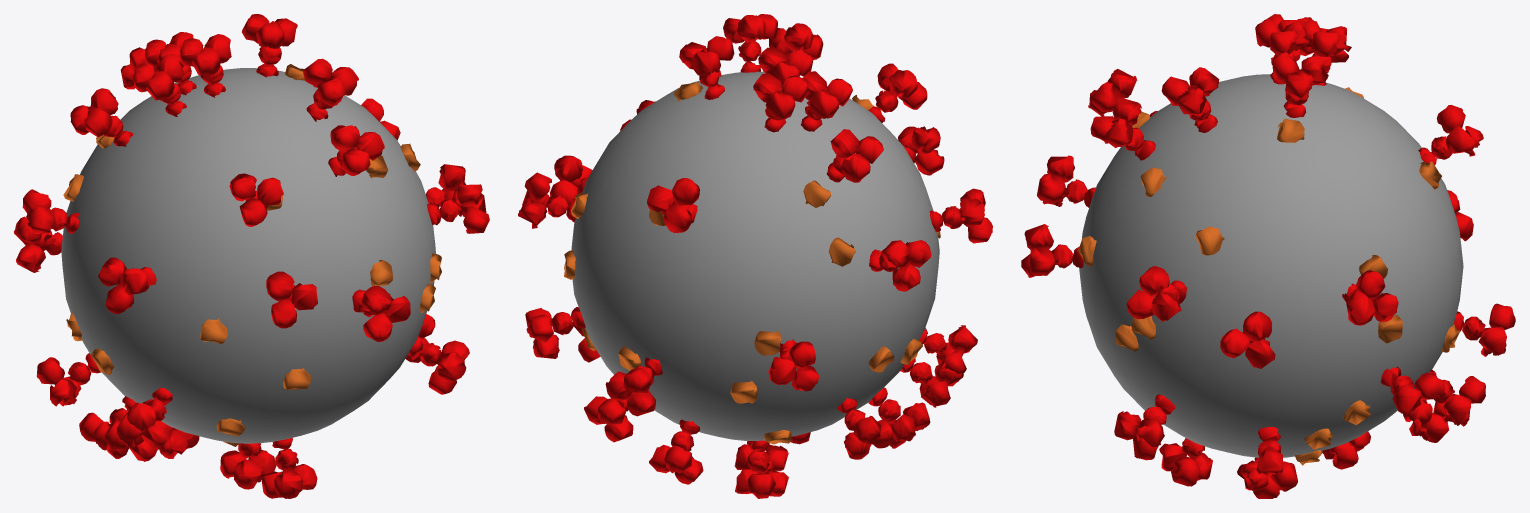
File: LidlVirus.fbx
3 renders of one model, left to right at view 1: azimuth 30°, elevation 25°; view 2: azimuth 150°, elevation 25°; view 3: azimuth 270°, elevation 25°, orthographic. The views are drawn at different scales.
Parts seen in each view (by area): view 1: Body, Body|Spike|Dupli|11.1, Body|Spike|Dupli|12.1, Body|Spike|Dupli|10.1, Body|Spike|Dupli|18.1, Body|Spike|Dupli|22.1, Body|Spike|Dupli|23.1, Body|Spike|Dupli|21.1, Body|Spike|Dupli|4.1, Body|Spike|Dupli|24.1, Body|Spike|Dupli|13.1, Body|Spike|Dupli|9.1 (+14 smaller); view 2: Body, Body|Spike|Dupli|24.1, Body|Spike|Dupli|23.1, Body|Spike|Dupli|29.1, Body|Spike|Dupli|26.1, Body|Spike|Dupli|4.1, Body|Spike|Dupli|25.1, Body|Spike|Dupli|0.1, Body|Spike|Dupli|27.1, Body|Spike|Dupli|1.1, Body|Spike|Dupli|15.1, Body|Spike|Dupli|10.1 (+18 smaller); view 3: Body, Body|Spike|Dupli|8.1, Body|Spike|Dupli|3.1, Body|Spike|Dupli|10.1, Body|Spike|Dupli|11.1, Body|Spike|Dupli|9.1, Body|Spike|Dupli|4.1, Body|Spike|Dupli|7.1, Body|Spike|Dupli|5.1, Body|Spike|Dupli|6.1, Body|Spike|Dupli|29.1, Body|Spike|Dupli|12.1 (+12 smaller).
Part boxes in pixels (x1=…): Body: x1=61, y1=68, x2=435, y2=443; Body|Spike|Dupli|11.1: x1=328, y1=125, x2=384, y2=176; Body|Spike|Dupli|12.1: x1=352, y1=286, x2=410, y2=341; Body|Spike|Dupli|10.1: x1=303, y1=58, x2=358, y2=121; Body|Spike|Dupli|18.1: x1=116, y1=387, x2=172, y2=449; Body|Spike|Dupli|22.1: x1=133, y1=54, x2=186, y2=116; Body|Spike|Dupli|23.1: x1=70, y1=88, x2=133, y2=146; Body|Spike|Dupli|21.1: x1=180, y1=34, x2=231, y2=97; Body|Spike|Dupli|4.1: x1=242, y1=14, x2=297, y2=77; Body|Spike|Dupli|24.1: x1=15, y1=189, x2=79, y2=244; Body|Spike|Dupli|13.1: x1=261, y1=438, x2=317, y2=498; Body|Spike|Dupli|9.1: x1=408, y1=336, x2=469, y2=394; Body: x1=571, y1=71, x2=939, y2=440; Body|Spike|Dupli|24.1: x1=869, y1=240, x2=931, y2=291; Body|Spike|Dupli|23.1: x1=827, y1=129, x2=883, y2=182; Body|Spike|Dupli|29.1: x1=647, y1=178, x2=699, y2=232; Body|Spike|Dupli|26.1: x1=753, y1=73, x2=807, y2=132; Body|Spike|Dupli|4.1: x1=679, y1=36, x2=734, y2=99; Body|Spike|Dupli|25.1: x1=837, y1=398, x2=893, y2=459; Body|Spike|Dupli|0.1: x1=605, y1=357, x2=662, y2=416; Body|Spike|Dupli|27.1: x1=768, y1=339, x2=819, y2=391; Body|Spike|Dupli|1.1: x1=649, y1=419, x2=703, y2=484; Body|Spike|Dupli|15.1: x1=868, y1=63, x2=927, y2=122; Body|Spike|Dupli|10.1: x1=723, y1=14, x2=777, y2=72; Body: x1=1079, y1=74, x2=1463, y2=457; Body|Spike|Dupli|8.1: x1=1126, y1=266, x2=1187, y2=321; Body|Spike|Dupli|3.1: x1=1380, y1=366, x2=1444, y2=424; Body|Spike|Dupli|10.1: x1=1161, y1=67, x2=1219, y2=132; Body|Spike|Dupli|11.1: x1=1090, y1=98, x2=1155, y2=160; Body|Spike|Dupli|9.1: x1=1114, y1=394, x2=1175, y2=460; Body|Spike|Dupli|4.1: x1=1272, y1=52, x2=1328, y2=117; Body|Spike|Dupli|7.1: x1=1240, y1=427, x2=1297, y2=491; Body|Spike|Dupli|5.1: x1=1342, y1=270, x2=1398, y2=325; Body|Spike|Dupli|6.1: x1=1220, y1=311, x2=1275, y2=368; Body|Spike|Dupli|29.1: x1=1418, y1=105, x2=1483, y2=164; Body|Spike|Dupli|12.1: x1=1021, y1=224, x2=1083, y2=277.
Size of the model in its own units: 251 by 261 by 257.
